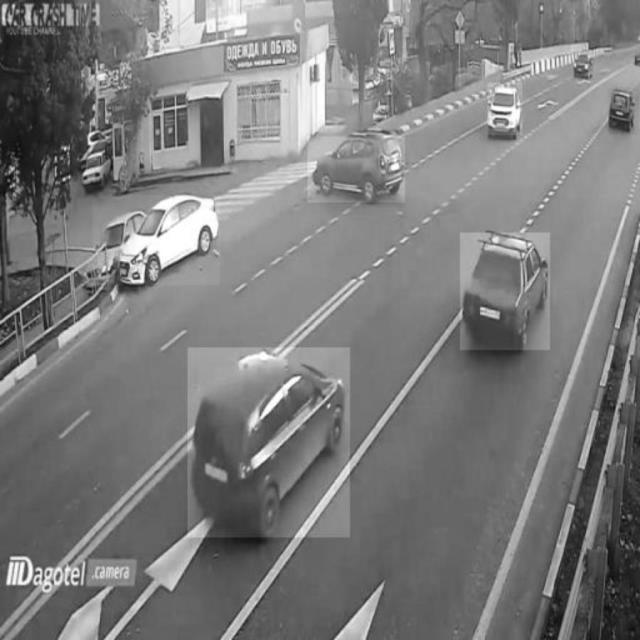accident: (92, 196, 220, 286)
vehicle: (188, 348, 350, 538), (460, 233, 550, 351), (308, 136, 406, 202), (487, 82, 523, 136), (608, 88, 638, 135)
